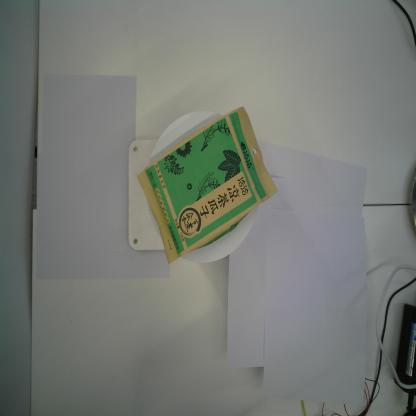Dried Food: (135, 106, 279, 266)
